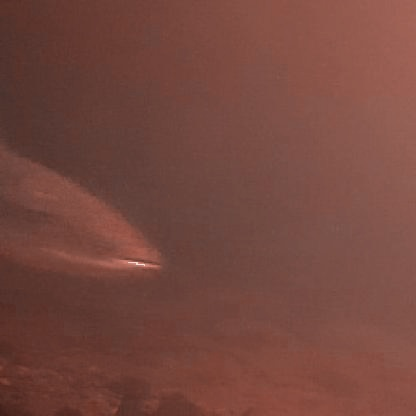salmon: (0, 139, 168, 284)
